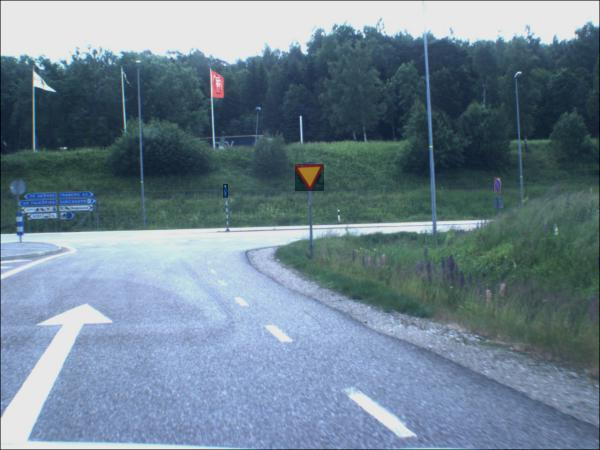GIVE_WAY: (296, 165, 326, 193)
NO_PARKING: (495, 178, 503, 195)
PASS_RIGHT_SIDE: (224, 185, 230, 200)
